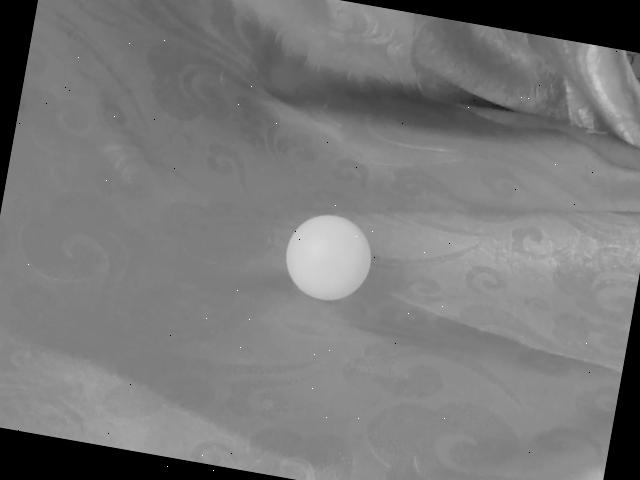ball: (278, 209, 378, 307)
